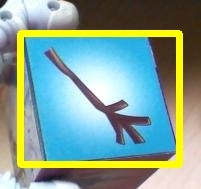Blue4: (20, 33, 179, 164)
